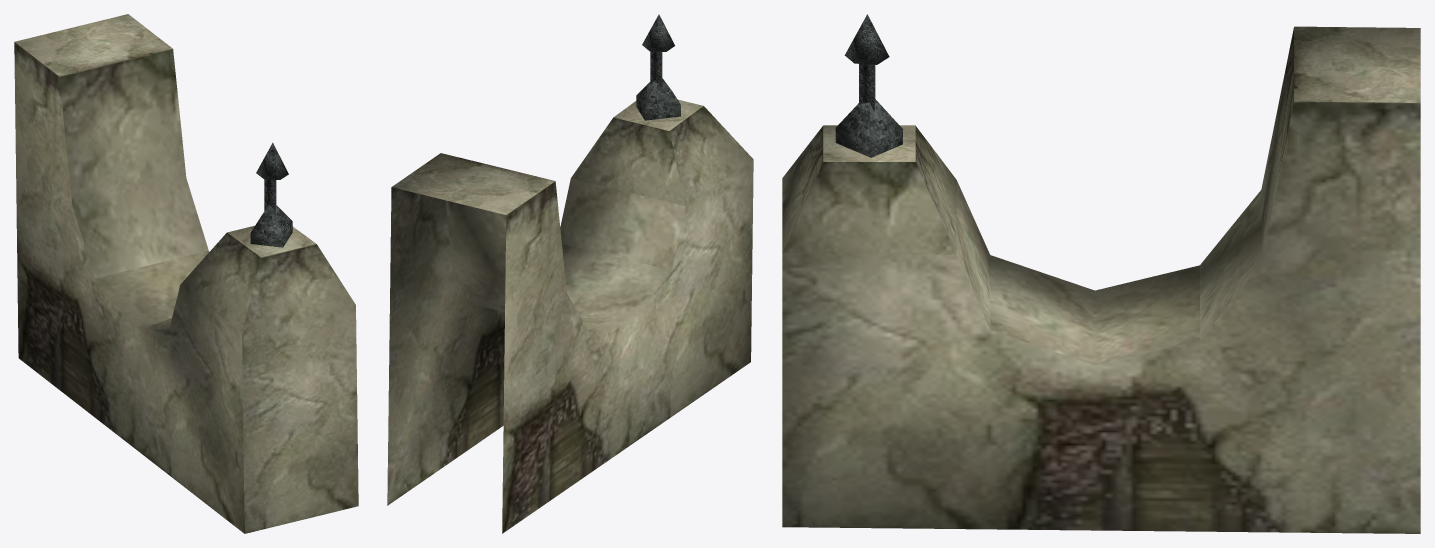
The model's file is OC_DECOWALL_01.glb.
3 views of the same model, side by side, from view 1: azimuth 30°, elevation 25°; view 2: azimuth 150°, elevation 25°; view 3: azimuth 270°, elevation 25° (orthographic). The views are drawn at different scales.
Visible parts, largest first — view 1: Mesh; view 2: Mesh; view 3: Mesh.
Boxes of the visible parts, x1,y1,x2,y2 form: Mesh: [14, 14, 358, 533]; Mesh: [387, 14, 753, 533]; Mesh: [782, 14, 1420, 533].
Size of the model in its own units: 0.6256 by 1.67 by 2.02.
Materials: 2 (2 with a texture image).
